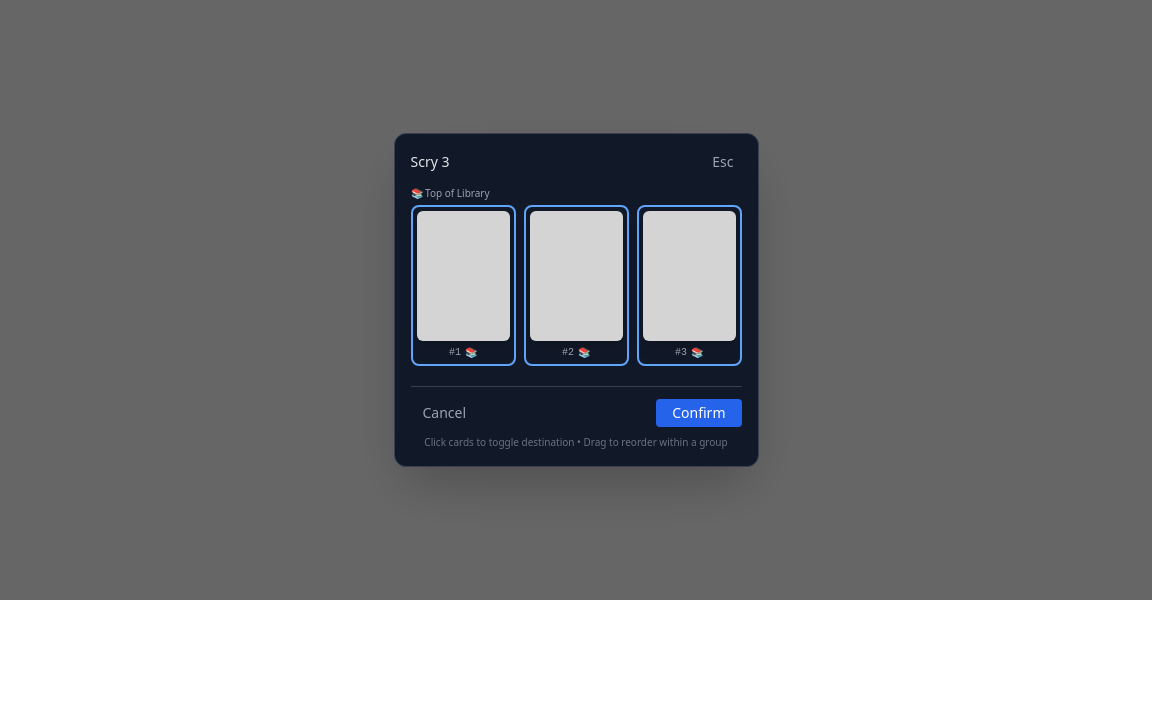
Scenario: PeekModal › scry mode › click moves card to bottom group
Click the first card's container (border div)
Click the button named "img" at (463, 286), box left=410, top=205, right=516, bottom=366
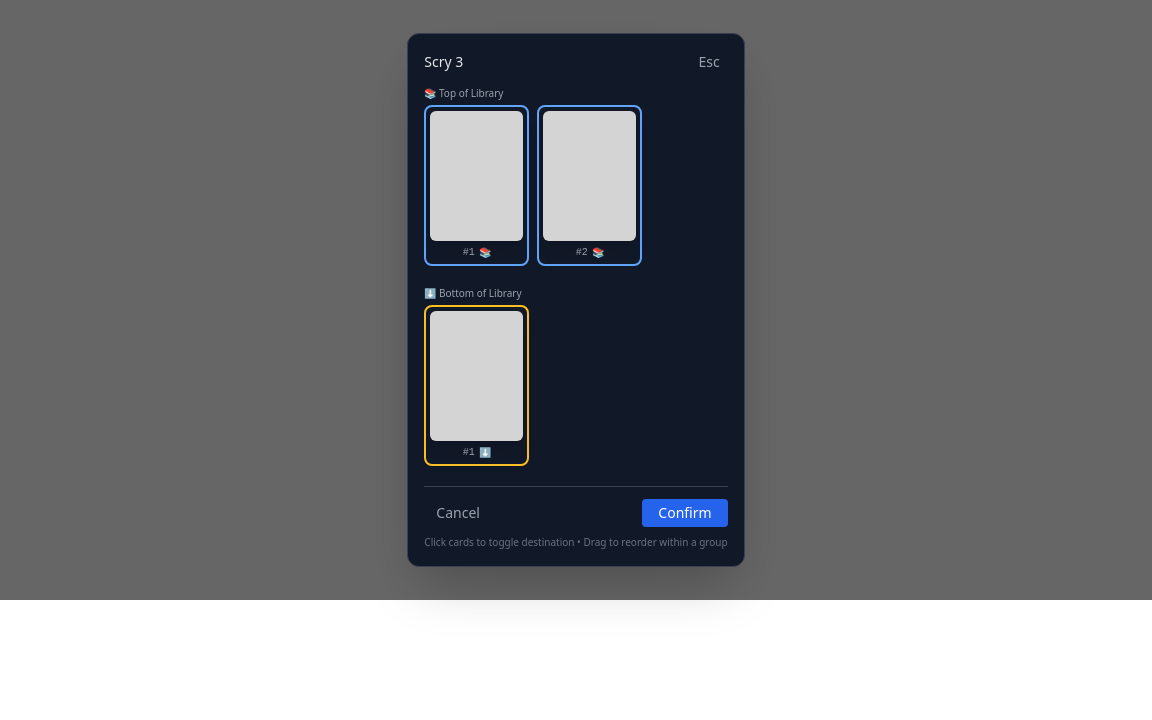
Check: the text "⬇ Bottom of Library" is shown, box left=424, top=286, right=522, bottom=300
